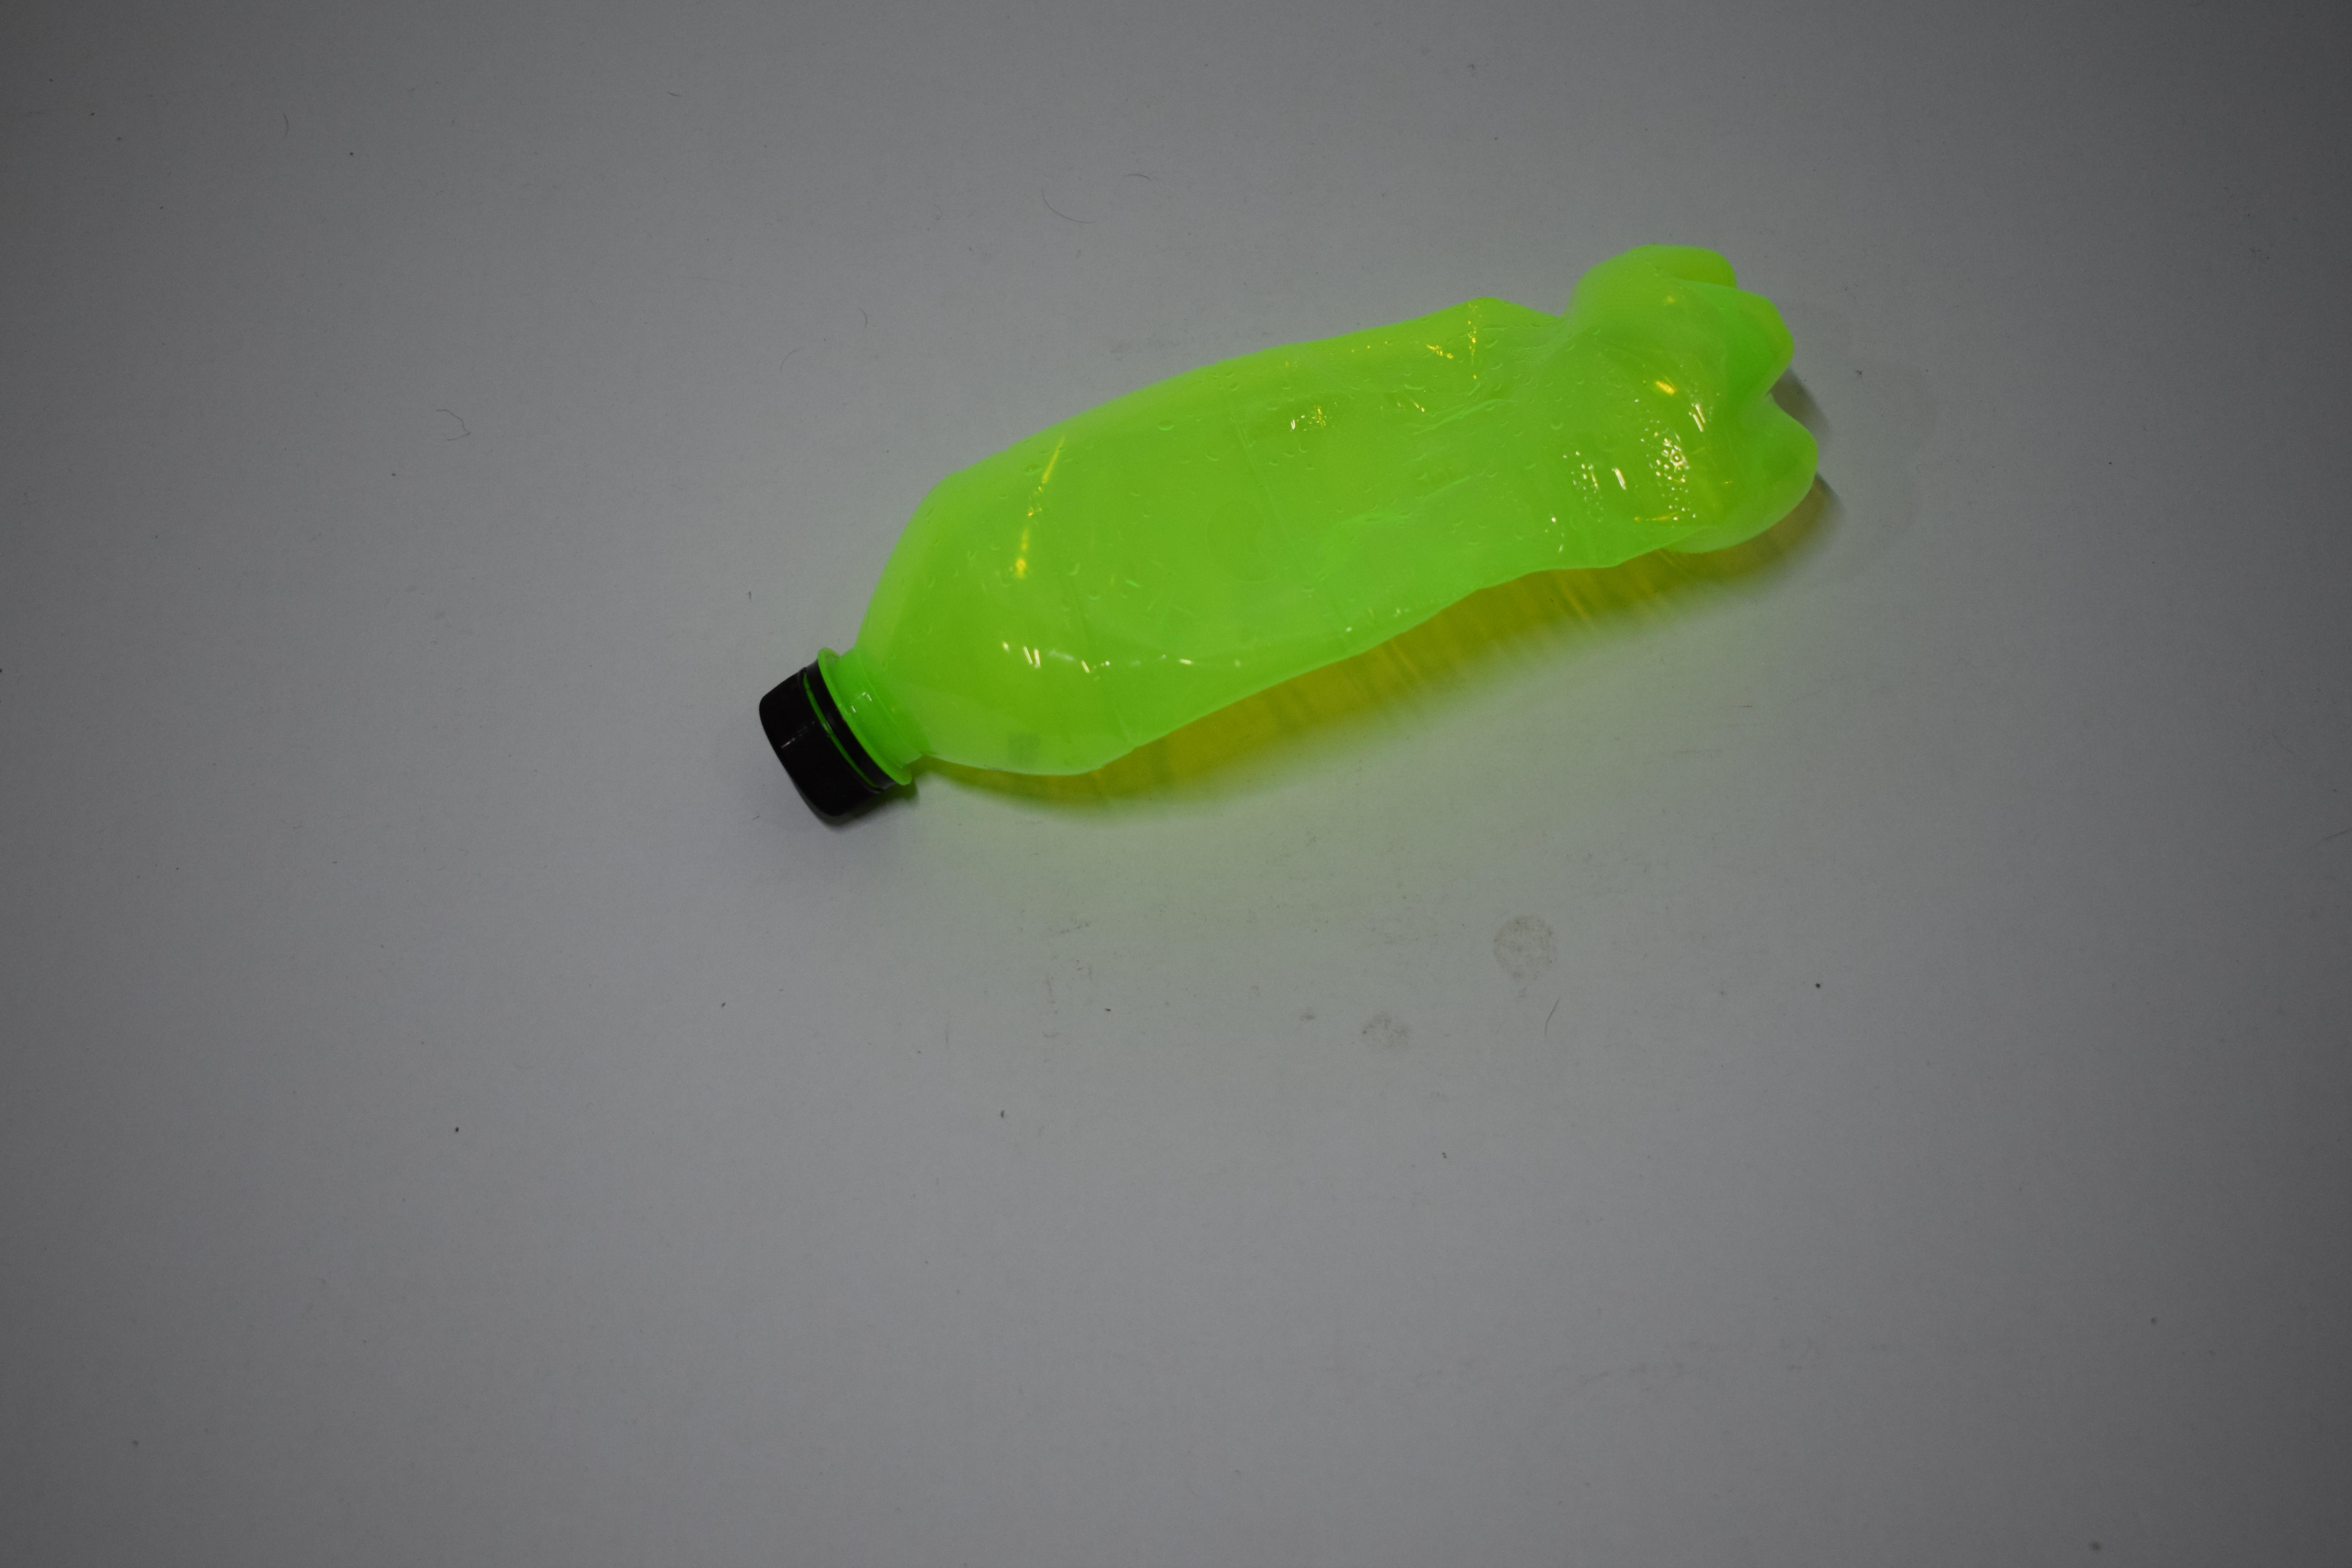bottle: (0, 238, 654, 835)
